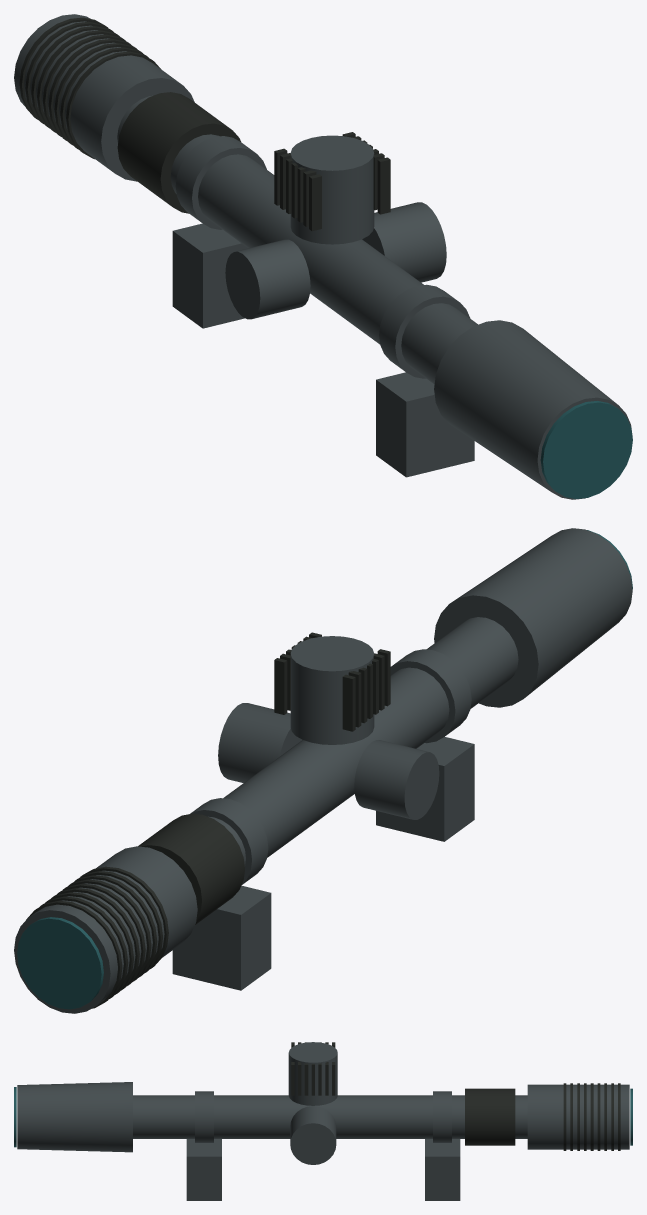
The model's file is scope_precision.glb.
The picture shows the model from 3 angles, top to bottom: view 1: azimuth 30°, elevation 25°; view 2: azimuth 150°, elevation 25°; view 3: azimuth 270°, elevation 25°; orthographic projection. The views are drawn at different scales.
Parts seen in each view (by area): view 1: static_batch_1_0, static_batch_1_1, lens_front, turret_elevation, zoom_ring, parallax_knob, turret_windage; view 2: static_batch_1_0, static_batch_1_1, turret_elevation, lens_rear, zoom_ring, parallax_knob, turret_windage; view 3: static_batch_1_0, static_batch_1_1, zoom_ring, turret_elevation, turret_windage.
Part boxes in pixels (x1,y1,x2,y2): static_batch_1_0: (14,14,632,499); static_batch_1_1: (19,17,390,231); lens_front: (540,401,632,498); turret_elevation: (290,135,374,244); zoom_ring: (117,92,240,213); parallax_knob: (225,239,310,319); turret_windage: (362,202,446,282); static_batch_1_0: (14,528,632,1013); static_batch_1_1: (26,632,390,1008); turret_elevation: (290,636,374,744); lens_rear: (17,917,103,1009); zoom_ring: (138,813,244,924); parallax_knob: (354,740,439,819); turret_windage: (218,703,302,782); static_batch_1_0: (17,1082,629,1200); static_batch_1_1: (291,1042,620,1150); zoom_ring: (465,1088,515,1145); turret_elevation: (288,1042,337,1105); turret_windage: (290,1106,336,1164).
Bounding box in the file's own units: 0.0915 × 0.1125 × 0.455.
